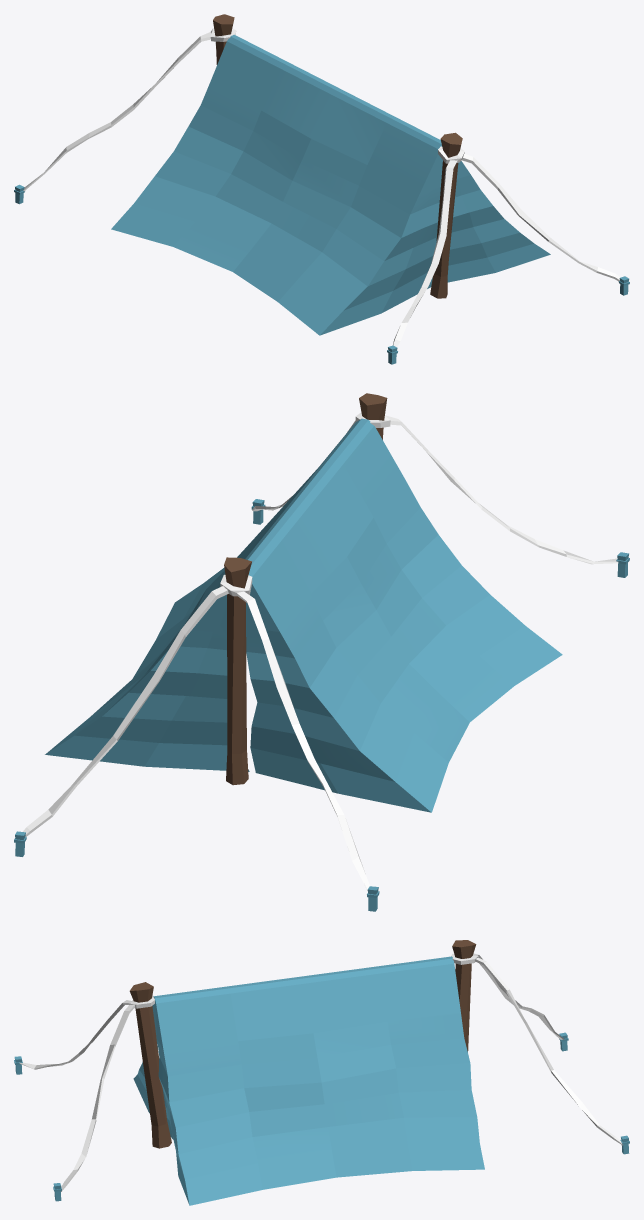
File: Tant_2.gltf
The picture shows the model from 3 angles, top to bottom: view 1: azimuth 30°, elevation 25°; view 2: azimuth 150°, elevation 25°; view 3: azimuth 270°, elevation 25°; orthographic projection. The views are drawn at different scales.
Parts seen in each view (by area): view 1: Tant_2; view 2: Tant_2; view 3: Tant_2.
Boxes of the visible parts, <box> form: Tant_2: <box>14,14,629,364</box>; Tant_2: <box>14,393,629,911</box>; Tant_2: <box>14,940,629,1205</box>.
Size of the model in its own units: 1.33 by 0.6657 by 2.07.
1 material, 1 textured.
